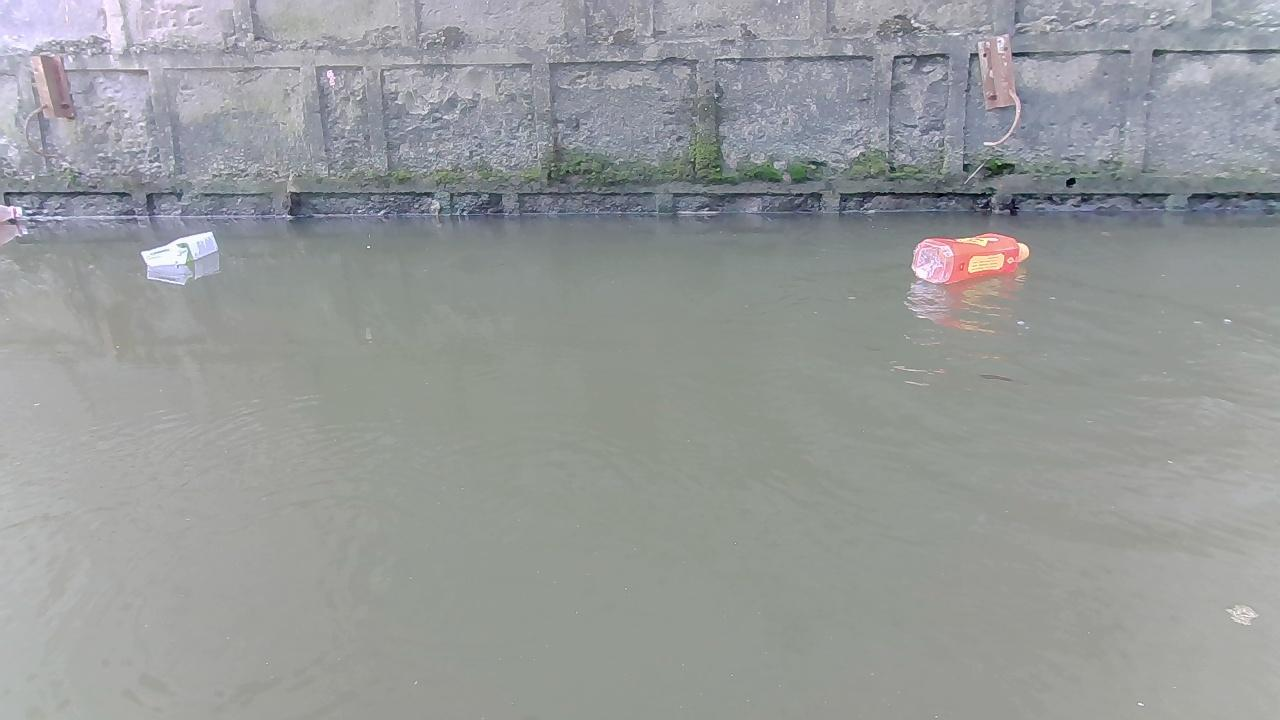bottle: (912, 227, 1032, 282), (139, 229, 217, 269)
